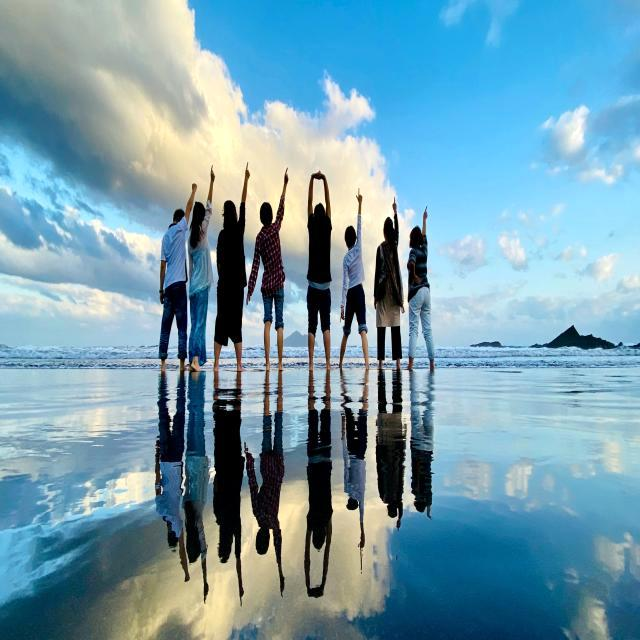no_head_wear: (345, 226, 357, 246), (410, 226, 423, 243), (223, 201, 237, 216), (193, 201, 206, 217), (384, 216, 394, 235), (260, 202, 272, 217), (173, 208, 185, 222), (314, 203, 326, 216)
person: (243, 383, 288, 600), (247, 170, 288, 371), (214, 168, 249, 371), (152, 408, 192, 584), (159, 184, 197, 369), (339, 190, 369, 370), (189, 170, 214, 371), (307, 172, 332, 372), (374, 213, 404, 367), (407, 209, 435, 370)
